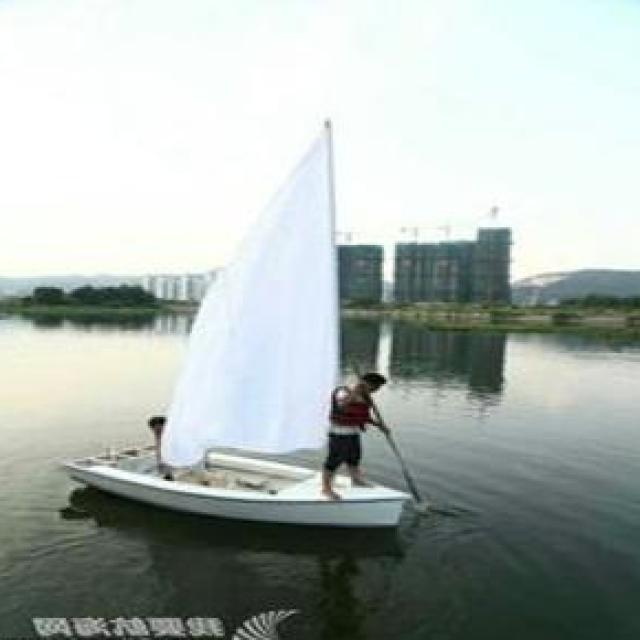sailboat: (71, 111, 421, 520)
